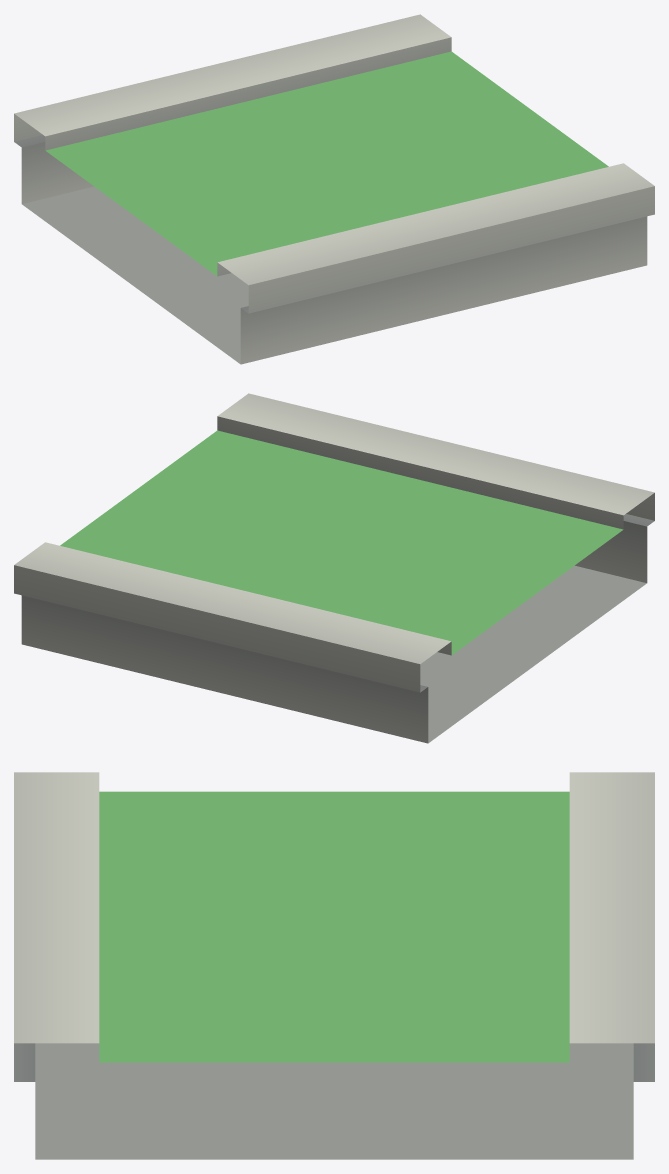
The model's file is Planter_Straight_Large_01.fbx.
3 views of the same model, one above another, from view 1: azimuth 30°, elevation 25°; view 2: azimuth 150°, elevation 25°; view 3: azimuth 270°, elevation 25° (orthographic). The views are drawn at different scales.
Parts seen in each view (by area): view 1: Planter_Straight_Large_01; view 2: Planter_Straight_Large_01; view 3: Planter_Straight_Large_01.
Boxes of the visible parts, <box> form: Planter_Straight_Large_01: <box>14,14,654,364</box>; Planter_Straight_Large_01: <box>14,393,654,743</box>; Planter_Straight_Large_01: <box>14,772,654,1159</box>.
Bounding box in the file's own units: 300 × 60 × 300.
